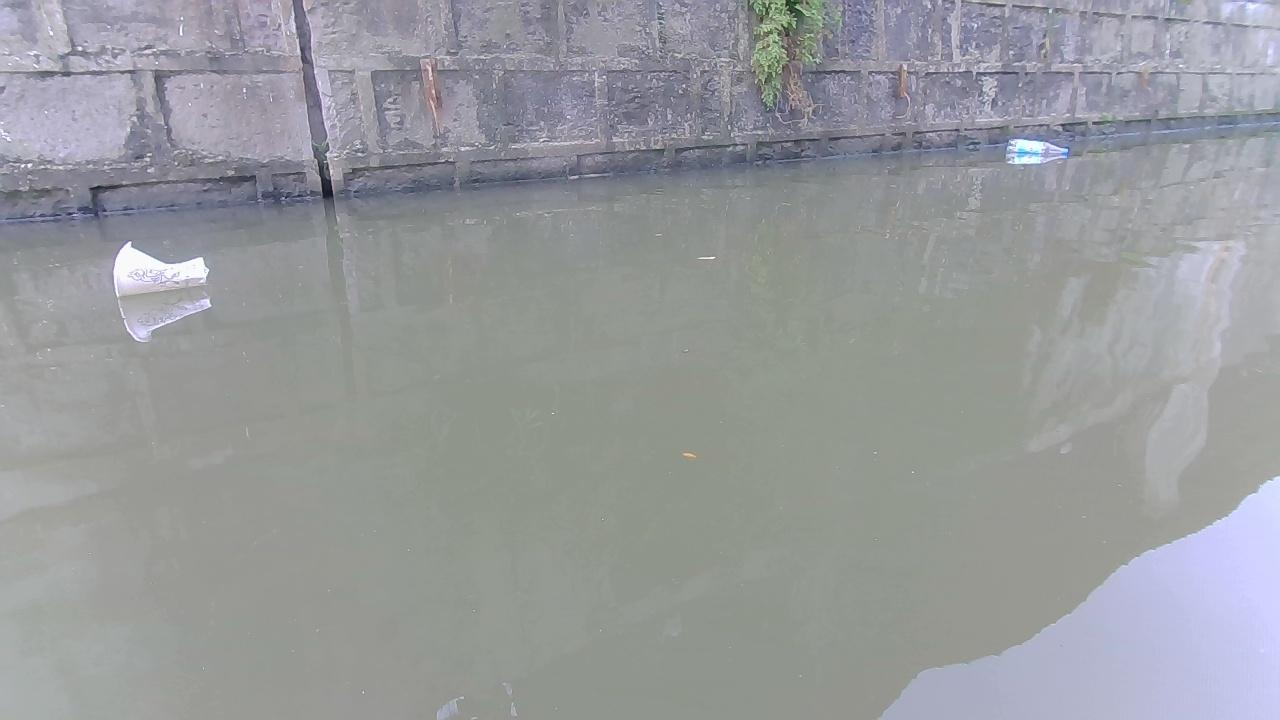bottle: (111, 237, 215, 296), (1001, 134, 1072, 157)
